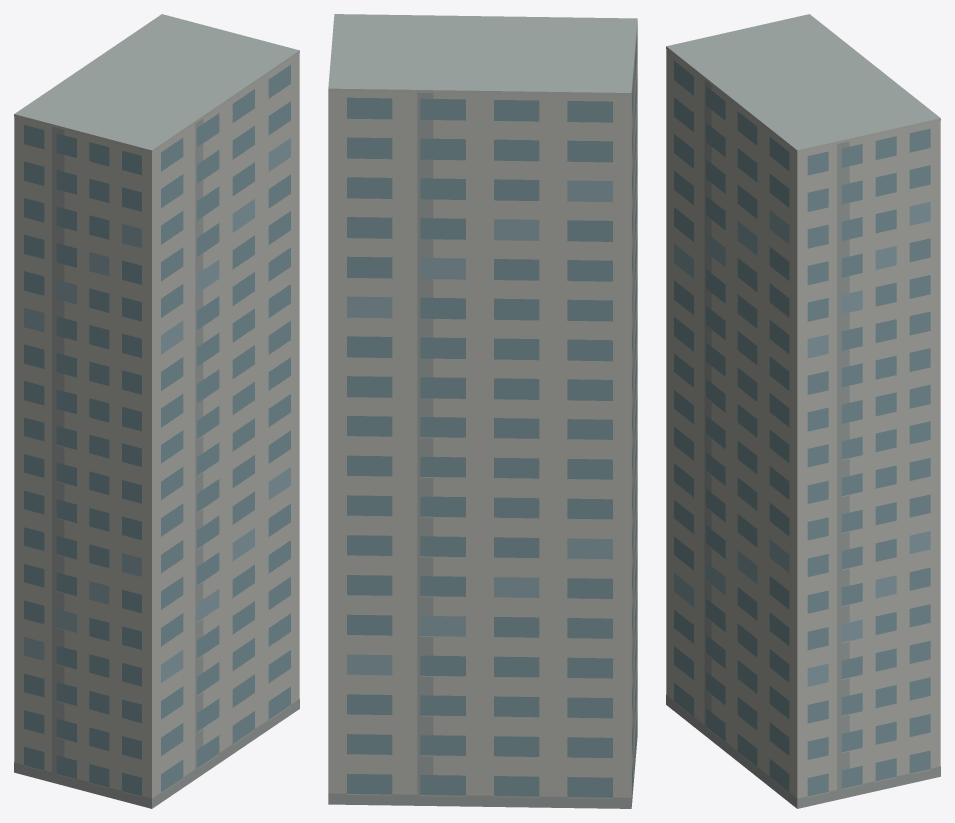
Rendered from residential-99853fe2-ded1-42ea-a9d2-2df93f2b9278.glb.
3 views of the same model, side by side, from view 1: azimuth 30°, elevation 25°; view 2: azimuth 150°, elevation 25°; view 3: azimuth 270°, elevation 25° (orthographic). The views are drawn at different scales.
Visible parts, largest first — view 1: residential-99853fe2-ded1-42ea-a9d2-2df93f2b9278.tmp; view 2: residential-99853fe2-ded1-42ea-a9d2-2df93f2b9278.tmp; view 3: residential-99853fe2-ded1-42ea-a9d2-2df93f2b9278.tmp.
Boxes of the visible parts, x1,y1,x2,y2 form: residential-99853fe2-ded1-42ea-a9d2-2df93f2b9278.tmp: (14,14,299,808); residential-99853fe2-ded1-42ea-a9d2-2df93f2b9278.tmp: (328,14,637,808); residential-99853fe2-ded1-42ea-a9d2-2df93f2b9278.tmp: (666,14,940,808).
Bounding box in the file's own units: 26.66 × 60 × 22.69.
